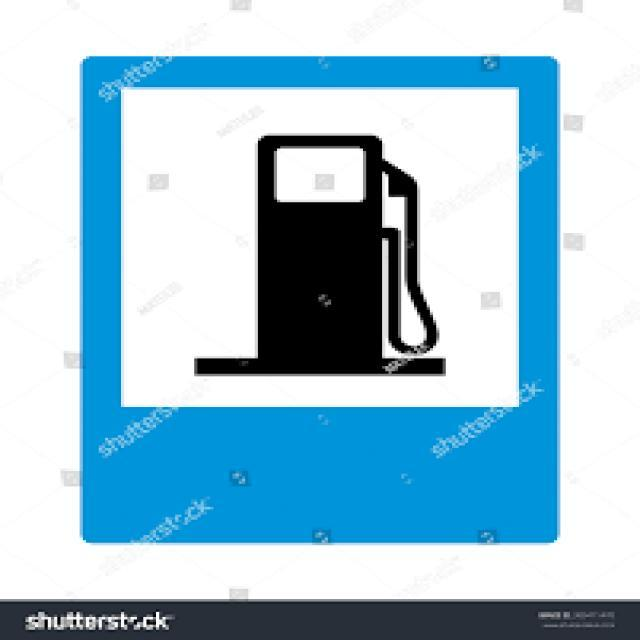petrol pump ahead: (97, 74, 537, 431)
